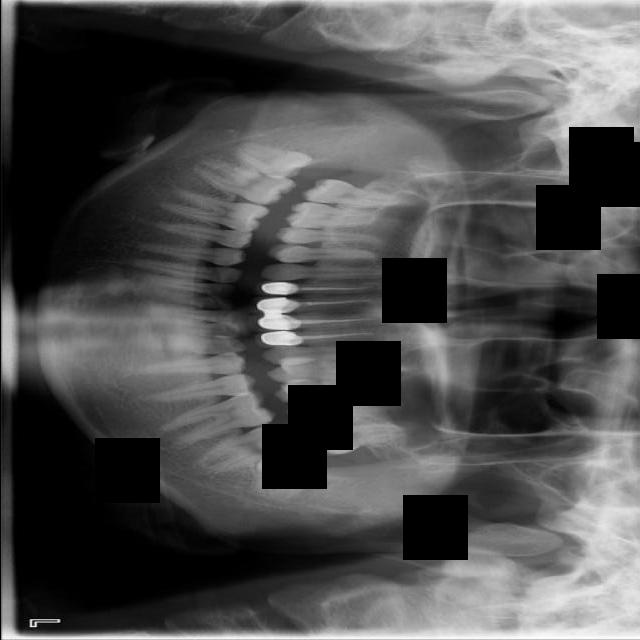52: (246, 294, 299, 333), (253, 330, 303, 348), (252, 281, 296, 296)
73: (295, 293, 375, 313), (300, 324, 376, 345), (296, 312, 379, 329), (295, 283, 375, 296), (45, 594, 55, 606)
BioHorizons Implant: (305, 414, 422, 459)
Biomet 3i Implant: (249, 452, 322, 515)
Blue Sky Bio Implant: (188, 417, 302, 478)
Caries: (300, 175, 420, 216)
Implant: (189, 156, 297, 212)
Keystone Dental Implant: (232, 141, 313, 184)
